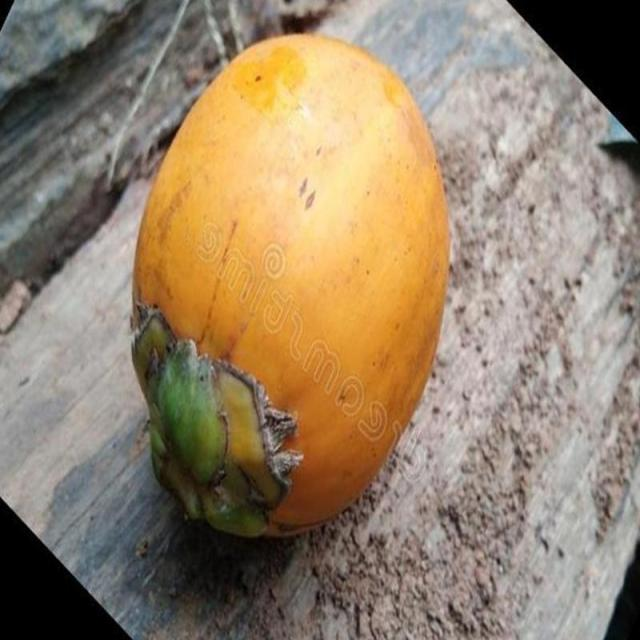good: (129, 34, 451, 543)
